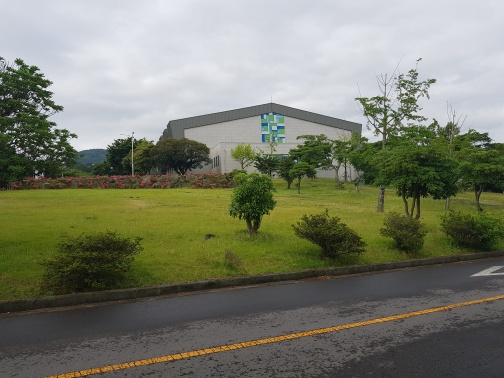Gym: (156, 101, 365, 180), (258, 109, 287, 146)
